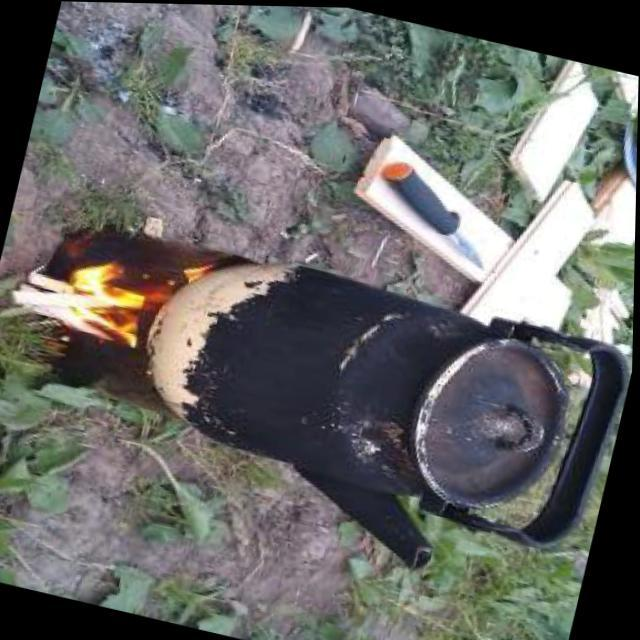fire: (20, 239, 206, 369)
